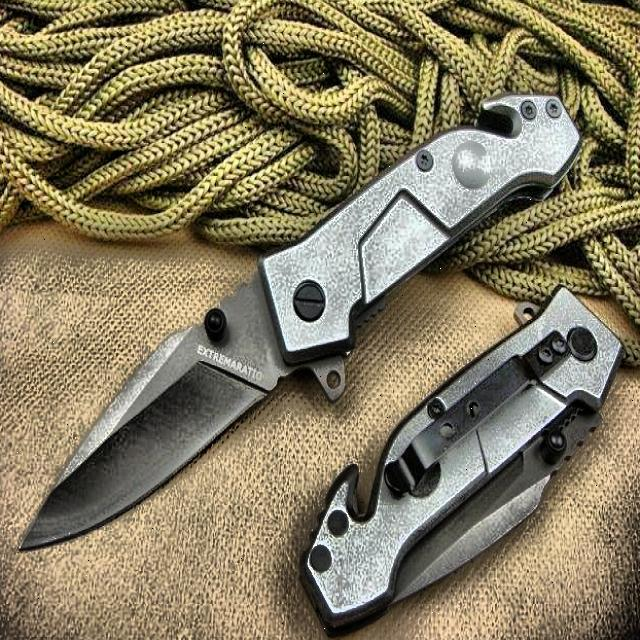knife: (19, 97, 581, 548), (304, 286, 622, 639)
